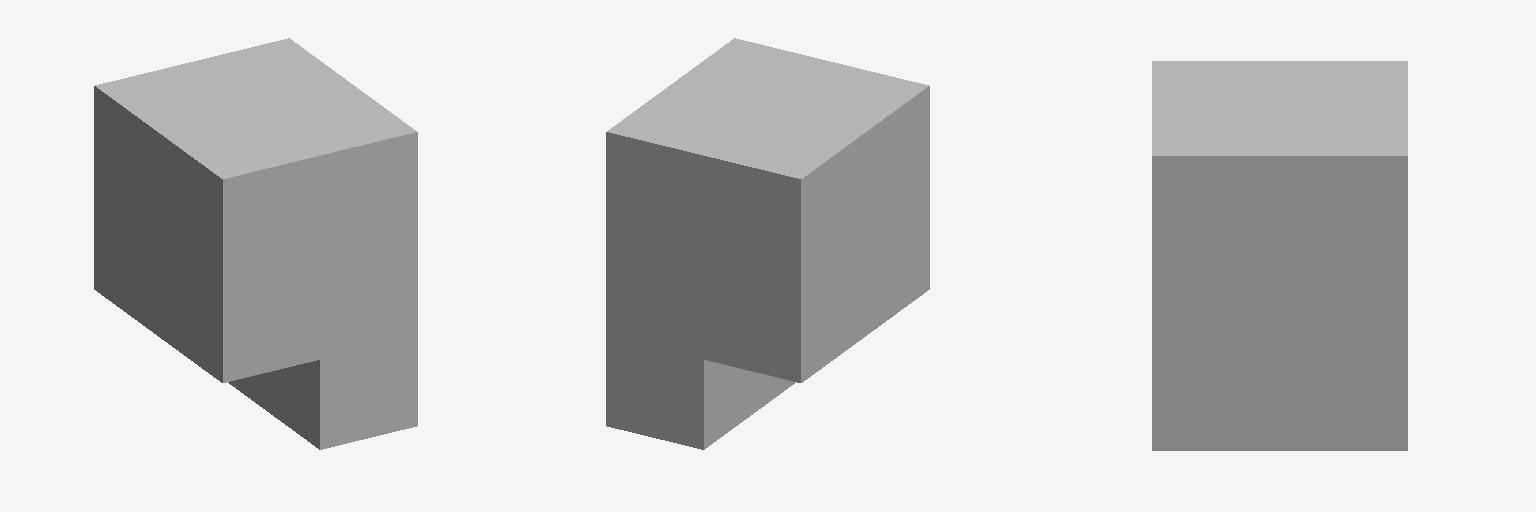
The model's file is hand.obj.
3 renders of one model, left to right at view 1: azimuth 30°, elevation 25°; view 2: azimuth 150°, elevation 25°; view 3: azimuth 270°, elevation 25°, orthographic.
Visible parts, largest first — view 1: Cube.001_Cube.002; view 2: Cube.001_Cube.002; view 3: Cube.001_Cube.002.
Part boxes in pixels (x1,y1,x2,y2): Cube.001_Cube.002: (94,38,417,449); Cube.001_Cube.002: (606,38,929,449); Cube.001_Cube.002: (1152,61,1407,450).
Bounding box in the file's own units: 0.349 × 0.5037 × 0.3972.